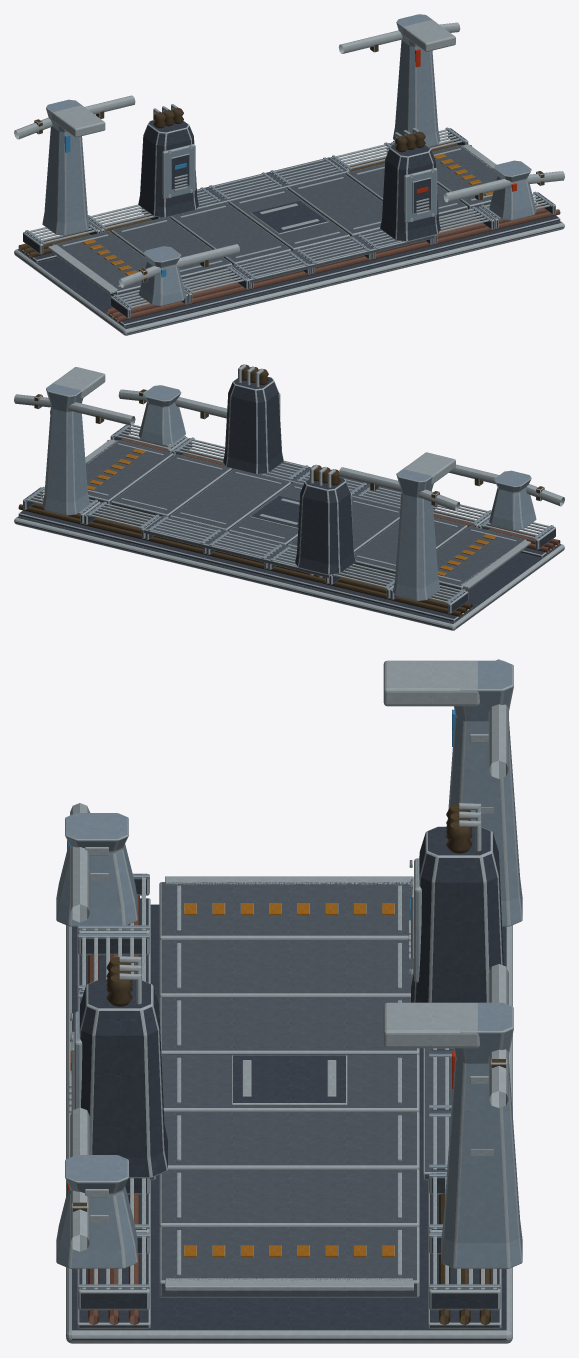
Rendered from IndustrialTransfer.fbx.
The picture shows the model from 3 angles, top to bottom: view 1: azimuth 30°, elevation 25°; view 2: azimuth 150°, elevation 25°; view 3: azimuth 270°, elevation 25°; orthographic projection. The views are drawn at different scales.
Parts seen in each view (by area): view 1: CS_transfer_gallery_0, CS_transfer_gallery_-1; view 2: CS_transfer_gallery_0, CS_transfer_gallery_-1; view 3: CS_transfer_gallery_0, CS_transfer_gallery_-1.
Part boxes in pixels (x1,y1,x2,y2): CS_transfer_gallery_0: (14,14,564,335); CS_transfer_gallery_-1: (106,128,564,327); CS_transfer_gallery_0: (14,367,564,630); CS_transfer_gallery_-1: (107,364,564,557); CS_transfer_gallery_0: (66,659,522,1343); CS_transfer_gallery_-1: (56,803,281,1328).
Bounding box in the file's own units: 18.05 × 5.56 × 8.24.
